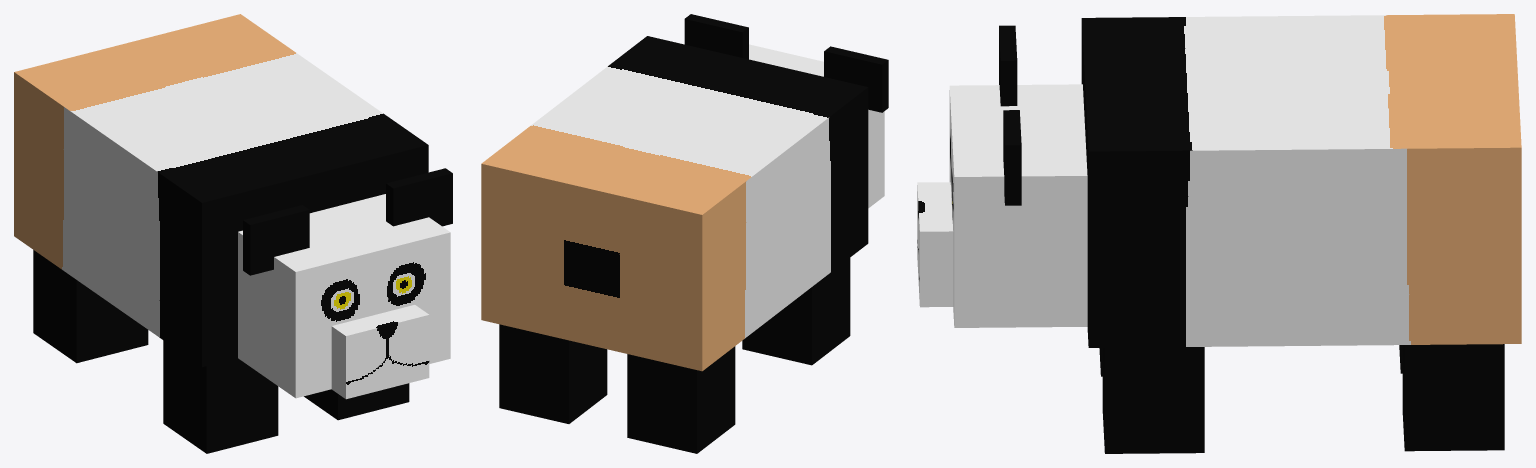
Rendered from asset.glb.
3 views of the same model, side by side, from view 1: azimuth 30°, elevation 25°; view 2: azimuth 150°, elevation 25°; view 3: azimuth 270°, elevation 25° (orthographic). The views are drawn at different scales.
Parts seen in each view (by area): view 1: body_0, head_2, leg2_11, head_3, leg0_7, head_4, head_5, leg3_13; view 2: body_0, leg0_7, leg1_9, leg2_11, head_2, head_4, head_5; view 3: body_0, head_2, leg1_9, leg3_13, head_3, head_5, head_4.
Boxes of the visible parts, bbox=[...] form: body_0: bbox=[14, 14, 428, 367]; head_2: bbox=[238, 194, 450, 398]; leg2_11: bbox=[163, 340, 278, 453]; head_3: bbox=[331, 305, 429, 399]; leg0_7: bbox=[33, 250, 148, 363]; head_4: bbox=[243, 205, 309, 275]; head_5: bbox=[386, 168, 452, 226]; leg3_13: bbox=[304, 383, 409, 420]; body_0: bbox=[481, 36, 868, 371]; leg0_7: bbox=[627, 346, 735, 453]; leg1_9: bbox=[499, 324, 607, 423]; leg2_11: bbox=[742, 258, 850, 365]; head_2: bbox=[749, 44, 884, 208]; head_4: bbox=[824, 46, 888, 112]; head_5: bbox=[684, 14, 748, 59]; body_0: bbox=[1081, 14, 1521, 347]; head_2: bbox=[949, 84, 1087, 327]; leg1_9: bbox=[1402, 344, 1504, 451]; leg3_13: bbox=[1102, 347, 1204, 453]; head_3: bbox=[917, 182, 953, 307]; head_5: bbox=[1003, 110, 1021, 205]; head_4: bbox=[999, 25, 1017, 106].
Size of the model in its own units: 1.22 by 1.28 by 2.27.
Materials: 1 (1 with a texture image).
